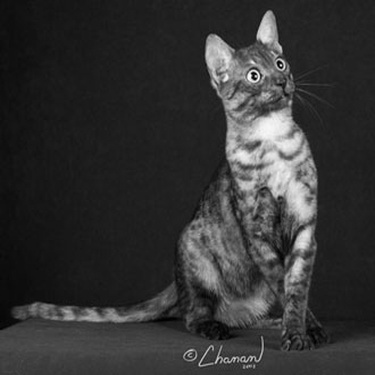cat: (1, 18, 362, 347)
